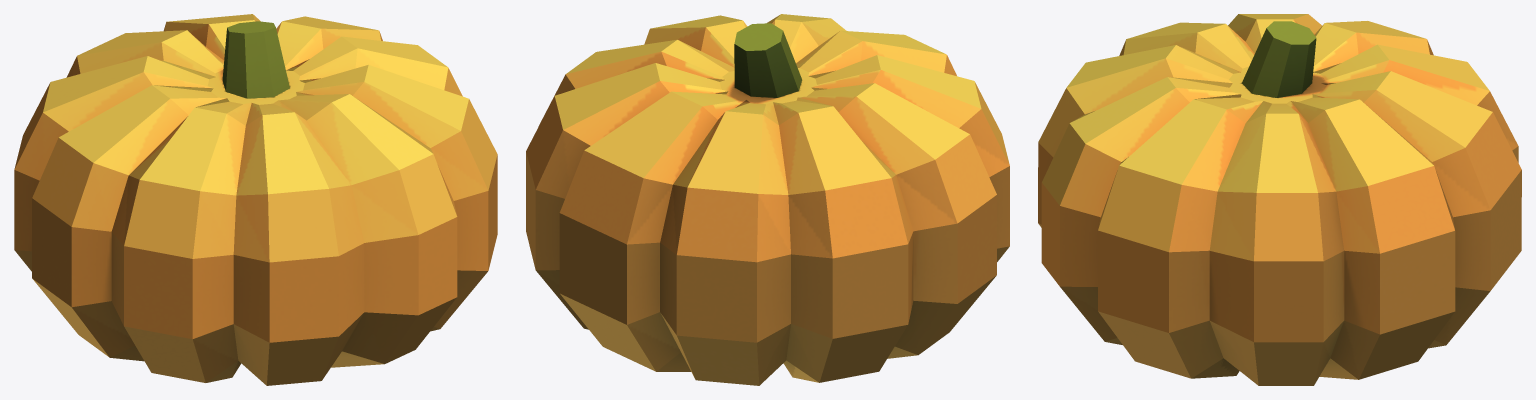
The model's file is 1adf8094-ebc7-42f5-863e-3e496a24ec80.glb.
3 views of the same model, side by side, from view 1: azimuth 30°, elevation 25°; view 2: azimuth 150°, elevation 25°; view 3: azimuth 270°, elevation 25° (orthographic).
Parts seen in each view (by area): view 1: pumpkin; view 2: pumpkin; view 3: pumpkin.
Part boxes in pixels (x1,y1,x2,y2): pumpkin: (14,14,497,385); pumpkin: (526,14,1009,385); pumpkin: (1038,14,1521,385).
Size of the model in its own units: 1.65 by 1.19 by 1.66.
Materials: 1 (1 with a texture image).
